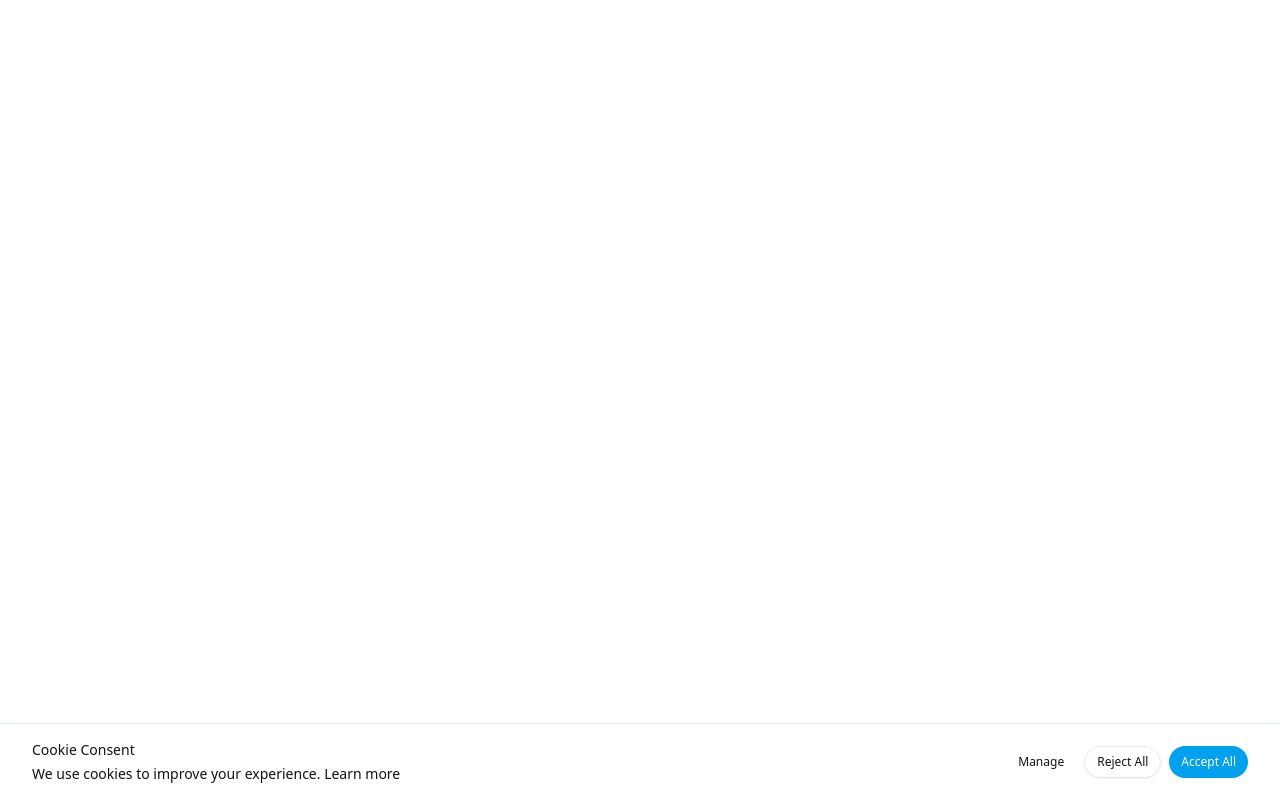
Test case: CookieBanner › preferences panel › closes preferences panel when close button is clicked
Click the button "Manage" at (1041, 762), box [1006, 746, 1076, 778]
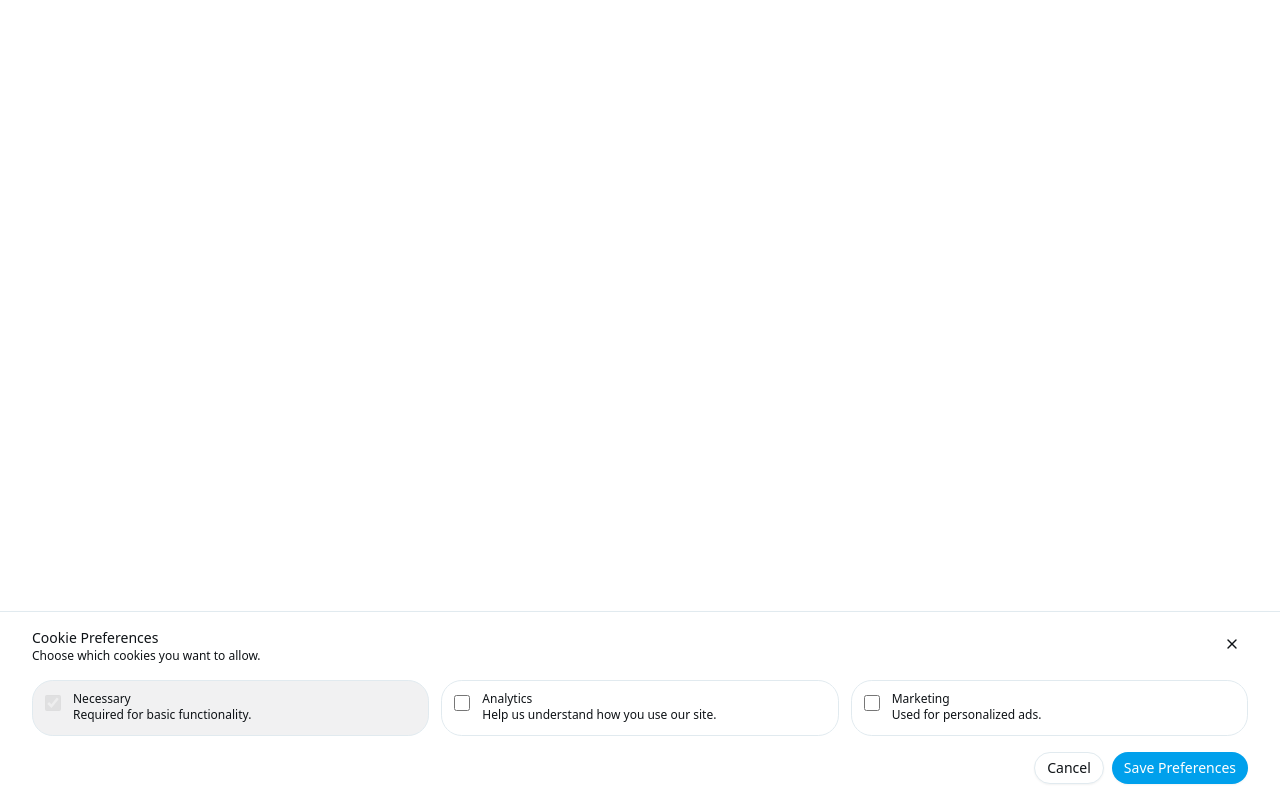
Expected: the text "Cookie Preferences" is shown, [32, 628, 158, 647]
Click the button named "Close" at (1232, 644), box [1216, 628, 1248, 660]
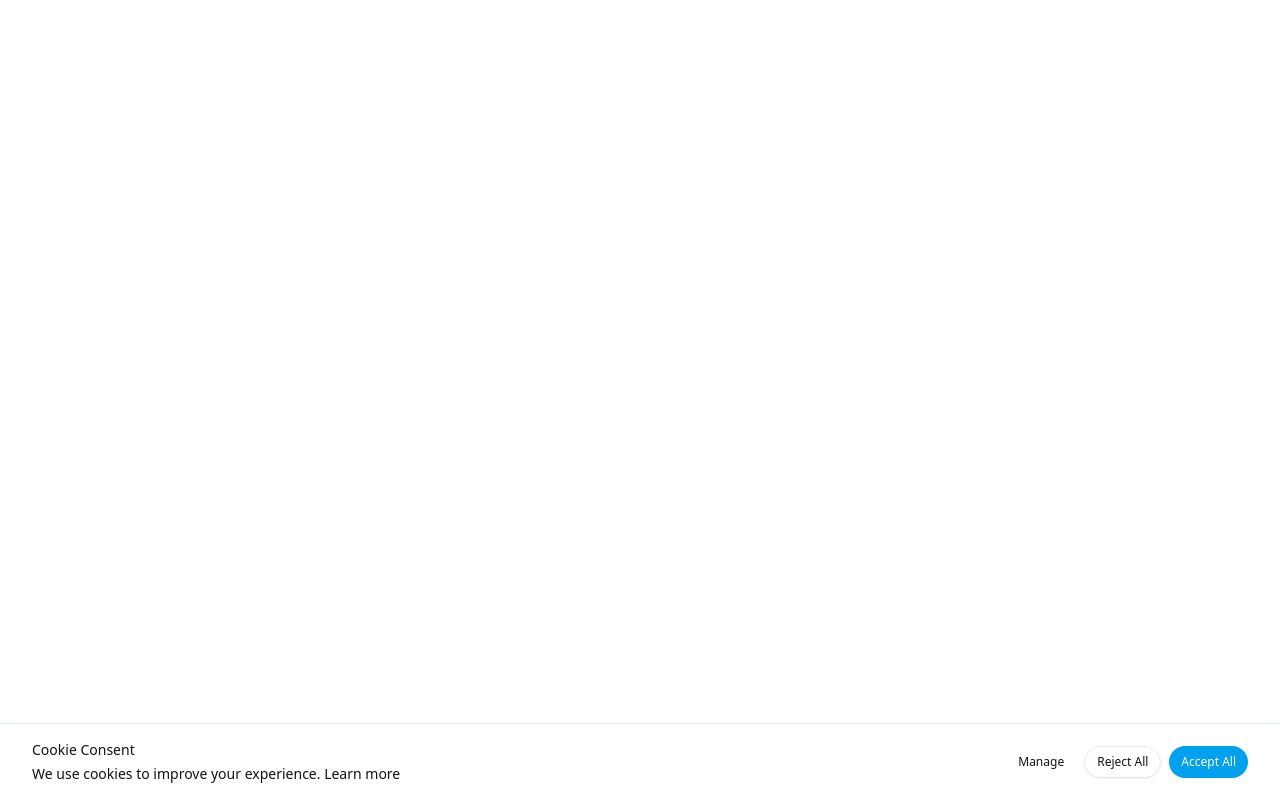
Expected: the text "Cookie Preferences" is gone
